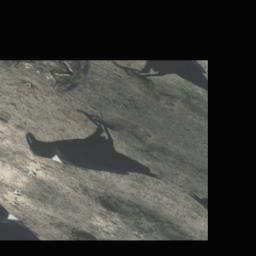Crow: (16, 95, 180, 212)
